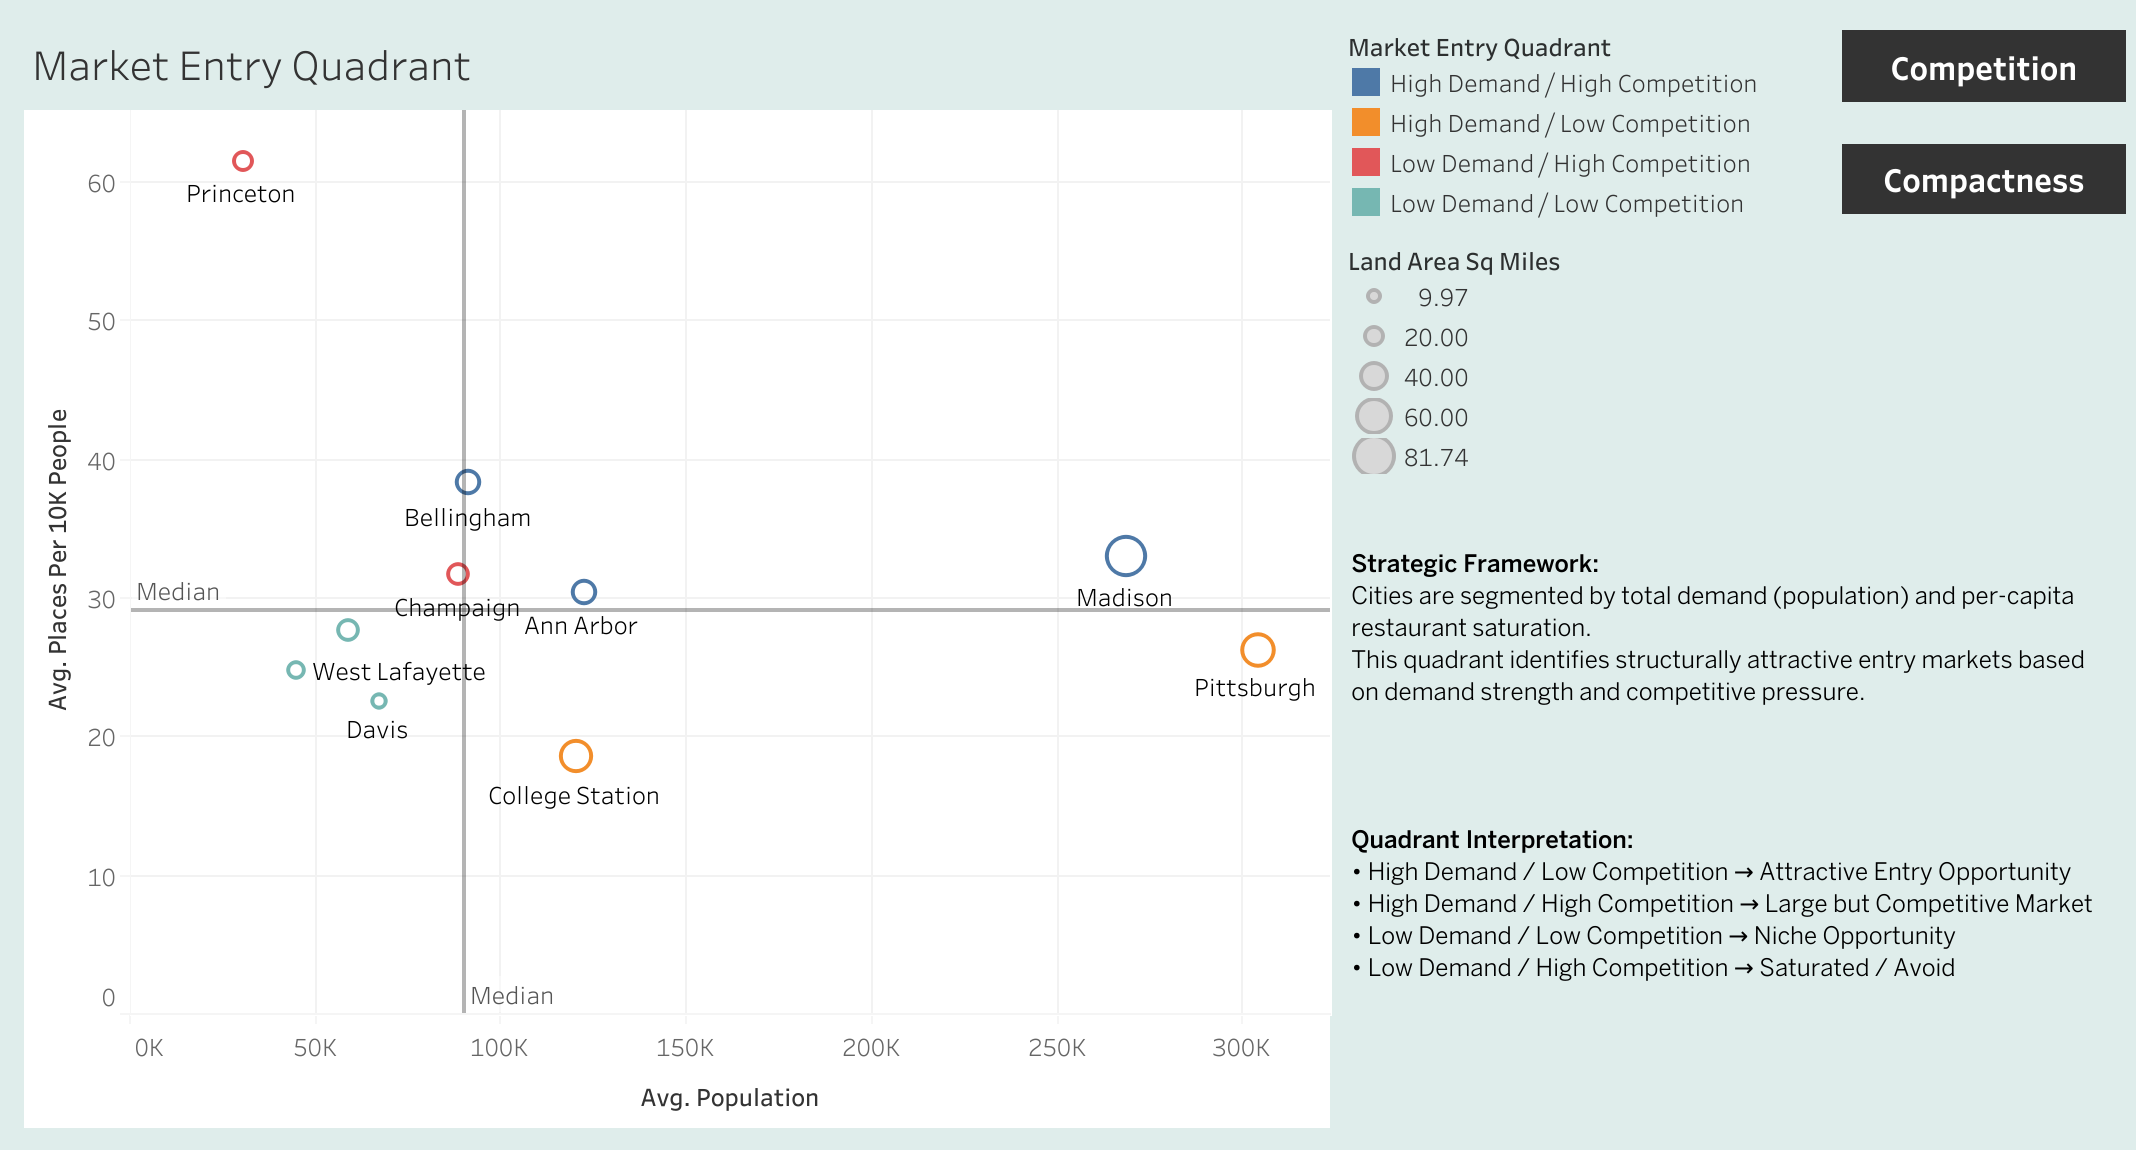

Layout of this report page (visuals, bound fields, positions):
{"tool":"tableau","page":{"name":"Quadrant Dashboard","canvas":[1069,576],"ordinal":2},"visuals":[{"type":"worksheet","title":"Market Entry Quadrant","mark":"Automatic","rows":["places_per_10k_people"],"cols":["population"],"box":[8,8,661,560]},{"type":"legend","title":"Market Entry Quadrant","param":"[federated.15o610m02cbuo01b2kiug1f0fh9t].[none:Calculation_1424183612698626:nk]","box":[669,8,392,106]},{"type":"dashboard-object","box":[921,15,142,36]},{"type":"dashboard-object","box":[921,72,142,35]},{"type":"legend","title":"Market Entry Quadrant","param":"[federated.15o610m02cbuo01b2kiug1f0fh9t].[sum:land_area_sq_miles:qk]","box":[669,114,392,126]},{"type":"text","box":[669,240,392,144]},{"type":"text","box":[669,384,392,132]}]}

Visuals, with their boxes in screenshot pixels (x1, y1, x2, y2), scaled from the page's 1069x576 canvas onto the 2136x1150 screenshot:
"Market Entry Quadrant" worksheet: select_region(16, 16, 1337, 1134)
"Market Entry Quadrant" legend: select_region(1337, 16, 2120, 228)
dashboard-object: select_region(1840, 30, 2124, 102)
dashboard-object: select_region(1840, 144, 2124, 214)
"Market Entry Quadrant" legend: select_region(1337, 228, 2120, 479)
text: select_region(1337, 479, 2120, 767)
text: select_region(1337, 767, 2120, 1030)
